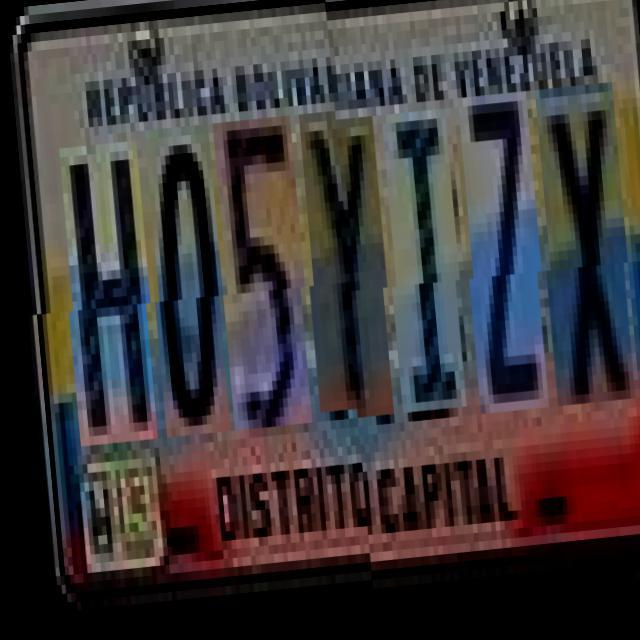5: (211, 130, 309, 444)
H: (56, 152, 154, 456)
I: (378, 118, 462, 421)
O: (142, 137, 228, 449)
X: (532, 95, 631, 417)
Y: (297, 124, 390, 427)
Z: (455, 102, 545, 424)
